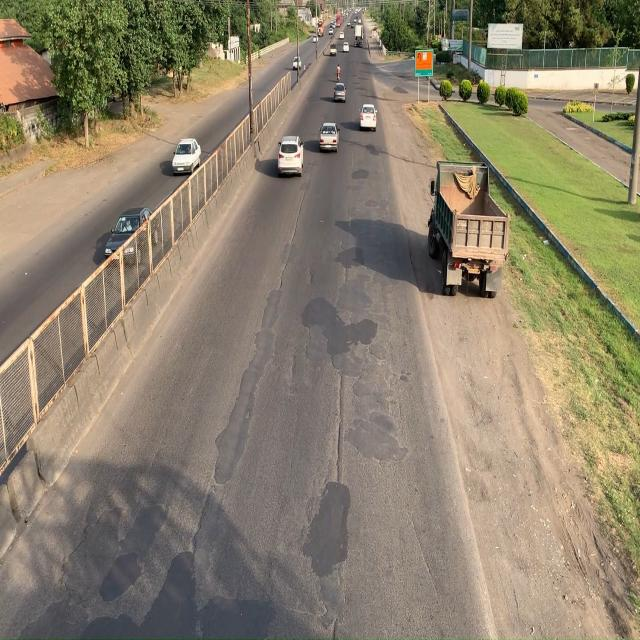Truck: (427, 156, 512, 300)
cars: (103, 203, 163, 269), (169, 128, 202, 180), (275, 132, 307, 181), (316, 115, 341, 160), (358, 101, 381, 136)
